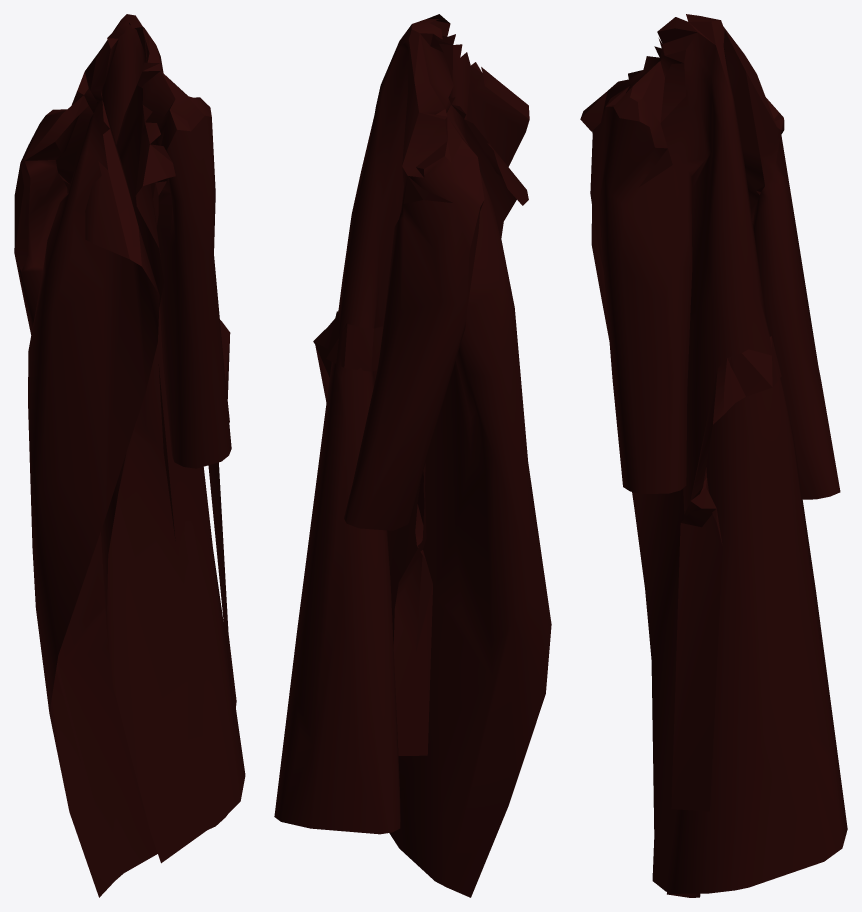
File: Coat.FBX
3 views of the same model, side by side, from view 1: azimuth 30°, elevation 25°; view 2: azimuth 150°, elevation 25°; view 3: azimuth 270°, elevation 25° (orthographic). The views are drawn at different scales.
Visible parts, largest first — view 1: Coat; view 2: Coat; view 3: Coat.
Part boxes in pixels (left/top/right/bottom): Coat: left=14, top=14, right=245, bottom=897; Coat: left=274, top=14, right=551, bottom=897; Coat: left=580, top=14, right=847, bottom=897.
Size of the model in its own units: 357 by 359 by 1333.
